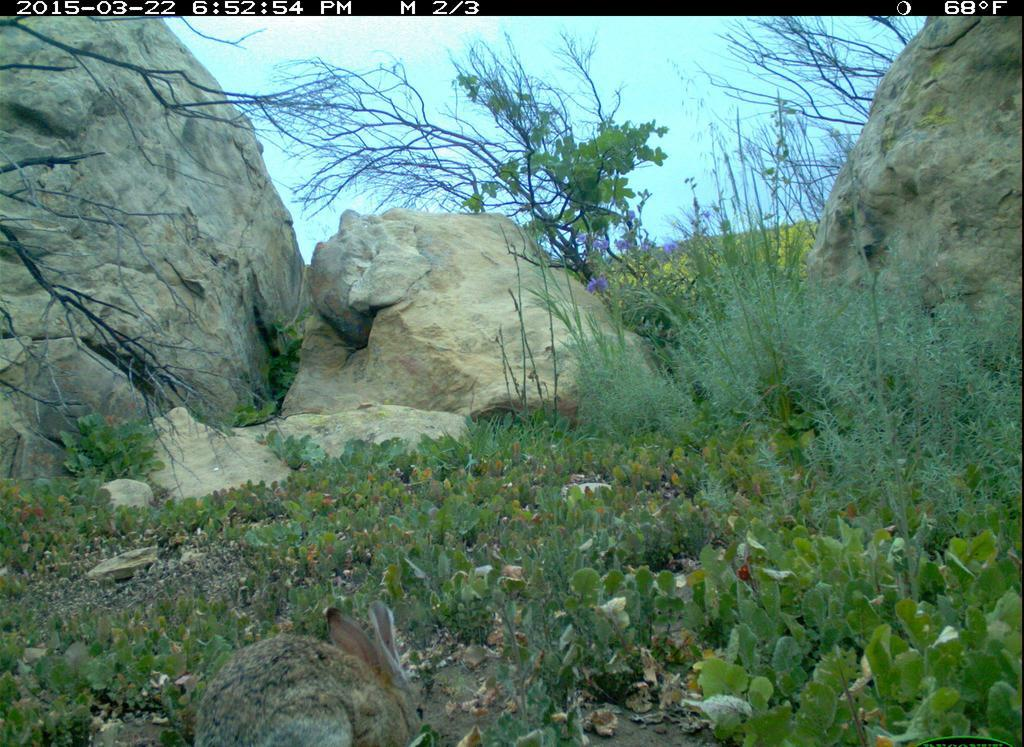rabbit: (181, 591, 440, 747)
